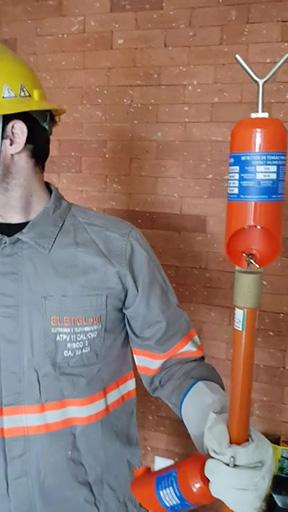Detector_Tensao_Contato: (225, 51, 286, 275)
Vara_Manobra: (222, 264, 263, 512)
